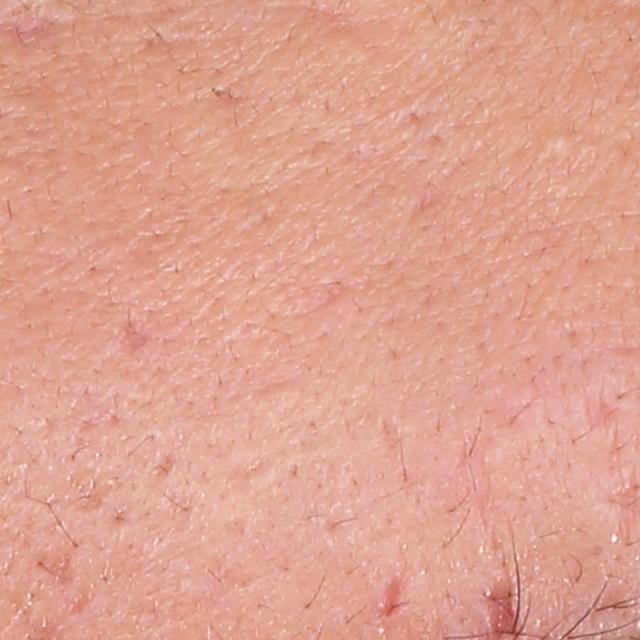atrophic_scar: (21, 543, 78, 586), (117, 322, 153, 359), (385, 573, 406, 619), (152, 450, 177, 482)
comedo: (543, 129, 577, 158)
